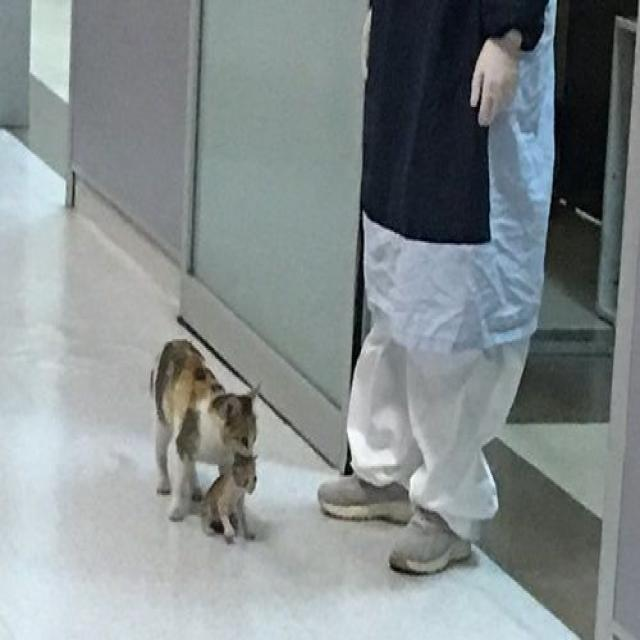cat: (145, 334, 263, 538), (201, 460, 256, 560)
